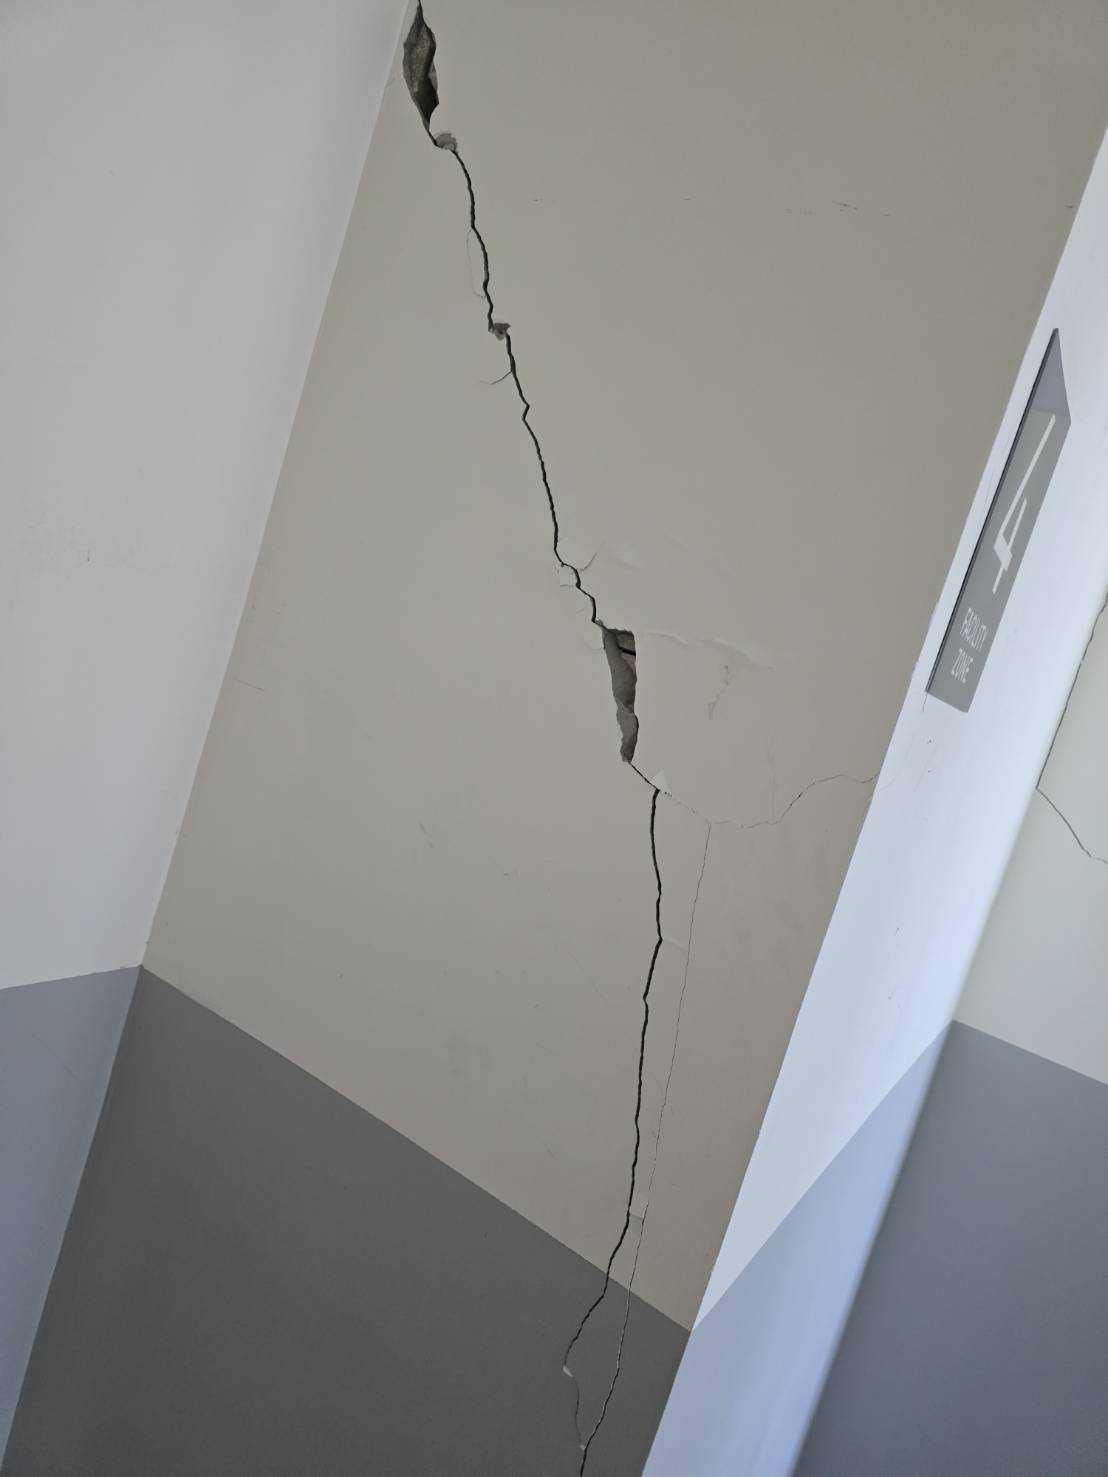High: (374, 2, 733, 1477)
